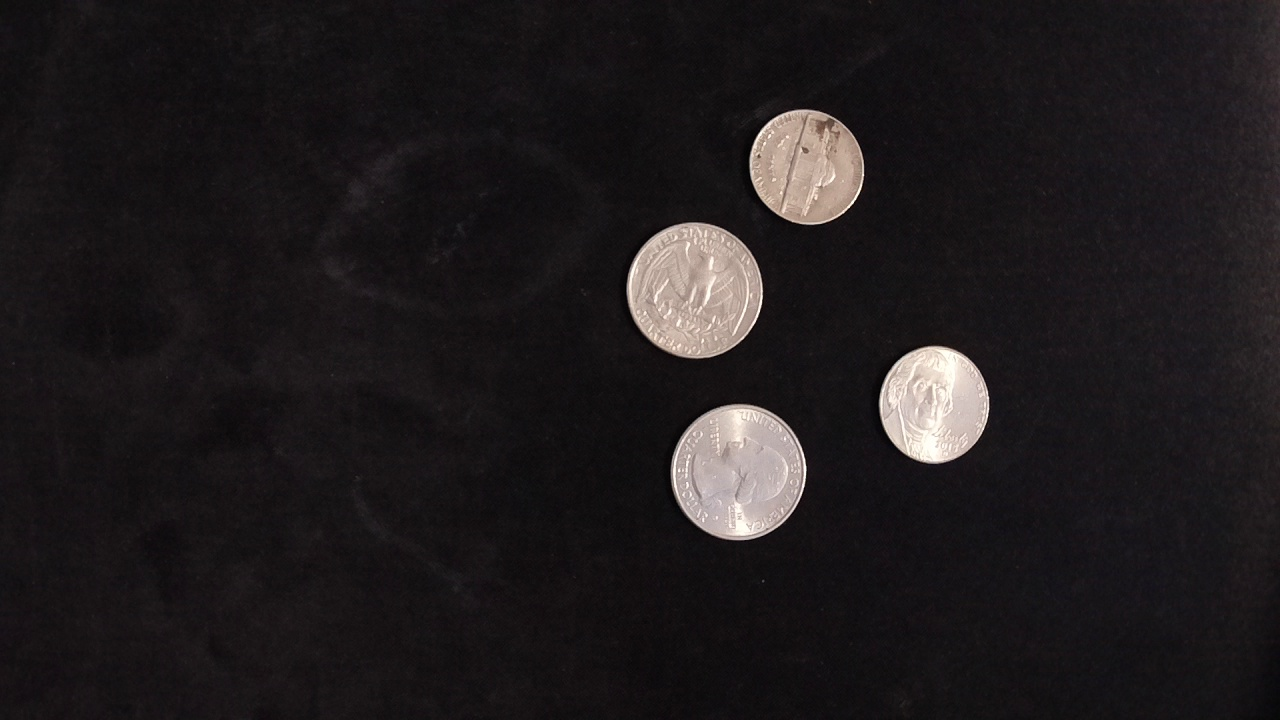nickel: (743, 100, 871, 230), (872, 340, 994, 472)
quarter: (664, 400, 812, 548), (622, 218, 766, 362)
